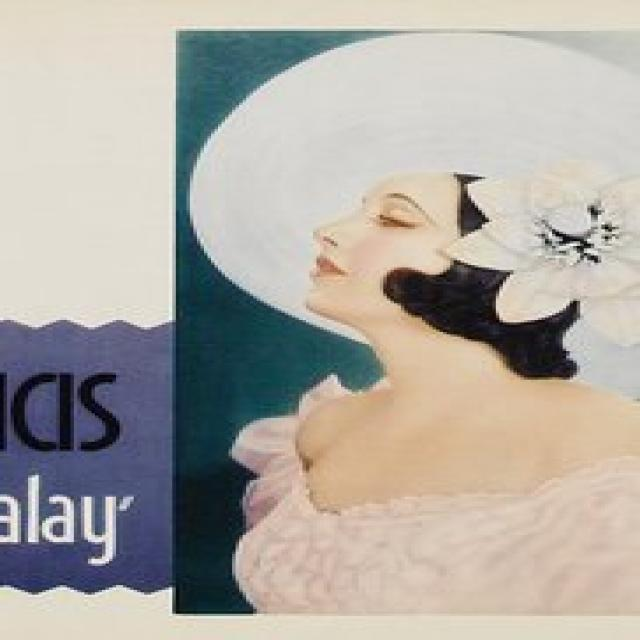picture: (176, 31, 640, 615)
